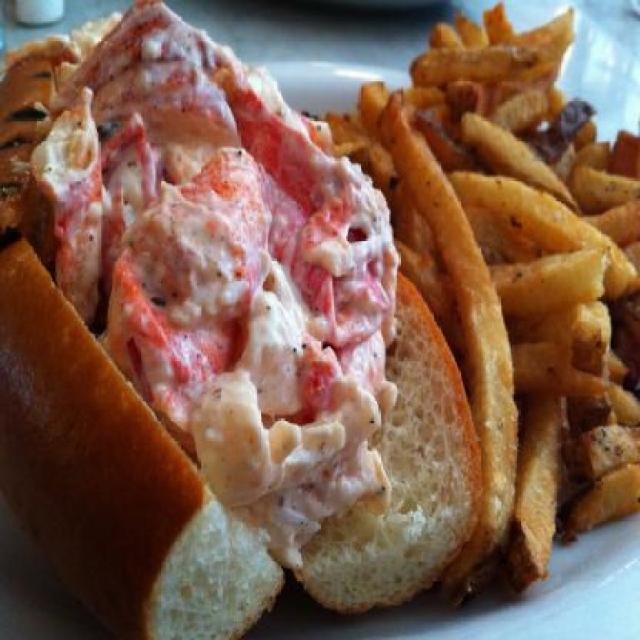Hot dog: (0, 0, 484, 638)
